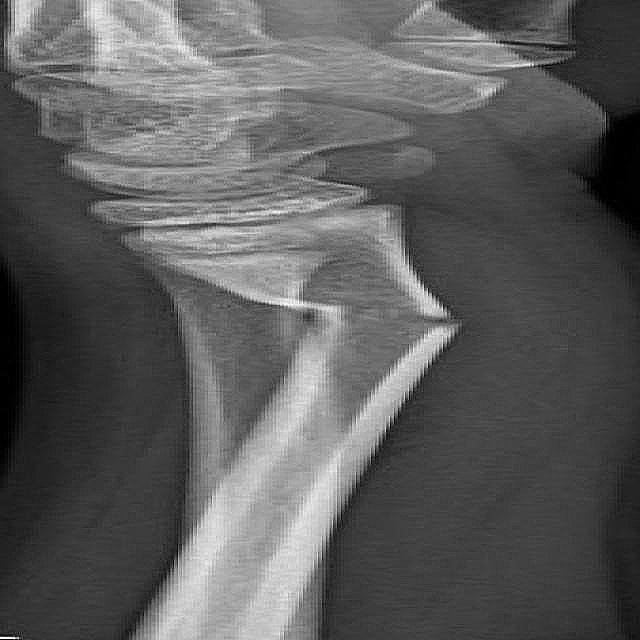bone: (276, 282, 467, 361)
